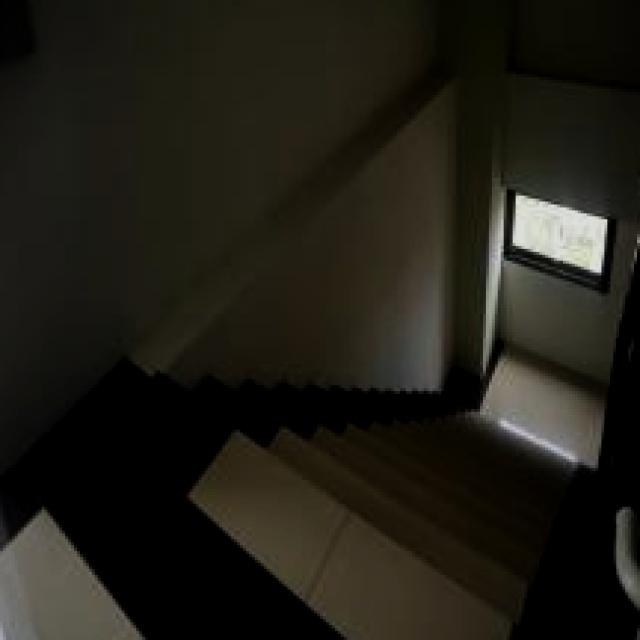downstair: (214, 395, 582, 640)
